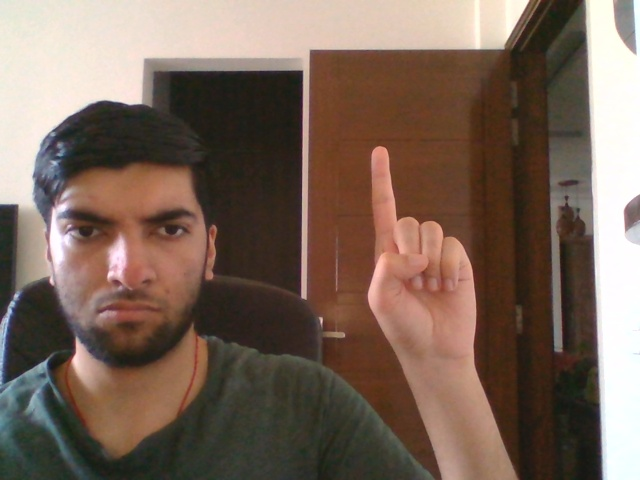LetterD: (367, 145, 476, 365)
